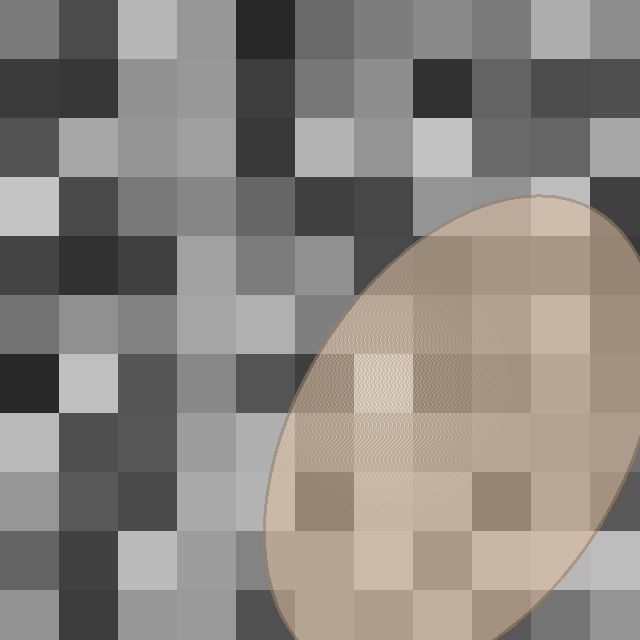lens: (264, 196, 640, 640)
